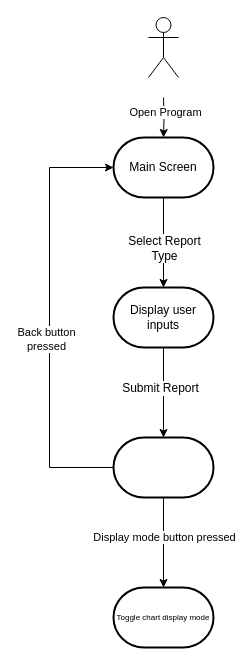
Image size: 252x666. Some labels were removed from this diagram. Here are the shapes that lost their labels. From the top down, the box of each, then its label:
(148, 16, 178, 78): User
(112, 436, 214, 498): Results screen
